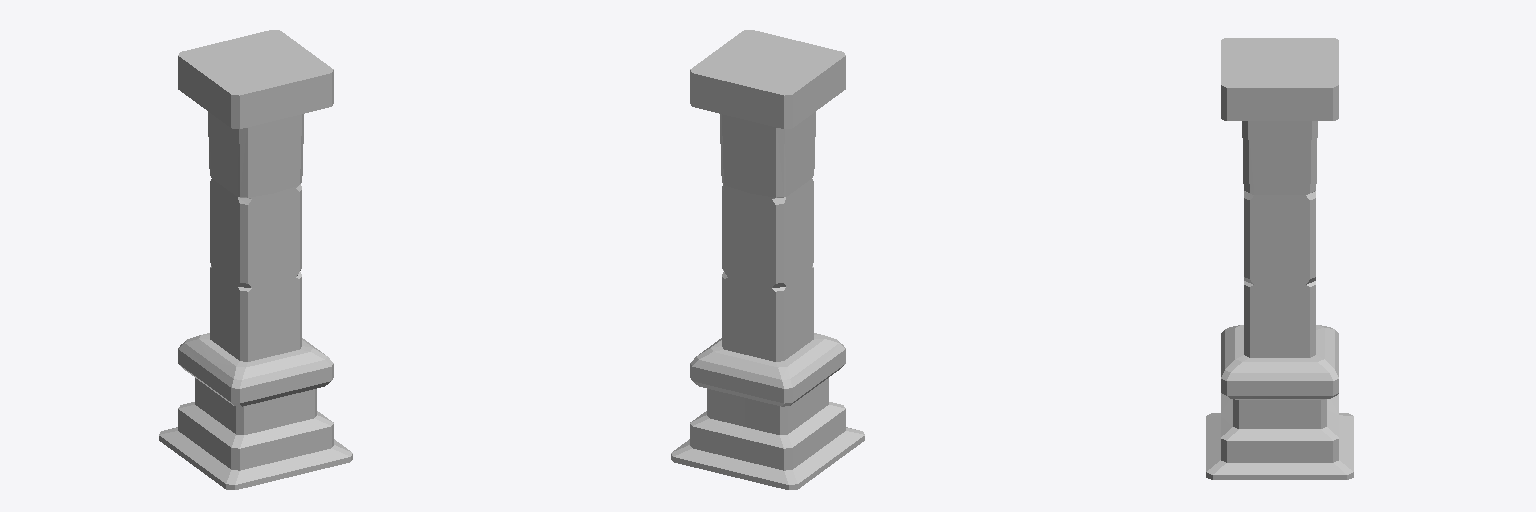
File: zhuzi.obj
The picture shows the model from 3 angles: view 1: azimuth 30°, elevation 25°; view 2: azimuth 150°, elevation 25°; view 3: azimuth 270°, elevation 25°; orthographic projection.
Visible parts, largest first — view 1: Box002; view 2: Box002; view 3: Box002.
Part boxes in pixels (x1,y1,x2,y2): Box002: (159, 30, 352, 489); Box002: (671, 30, 864, 489); Box002: (1206, 38, 1353, 479).
Bounding box in the file's own units: 69.5 × 202 × 69.8.